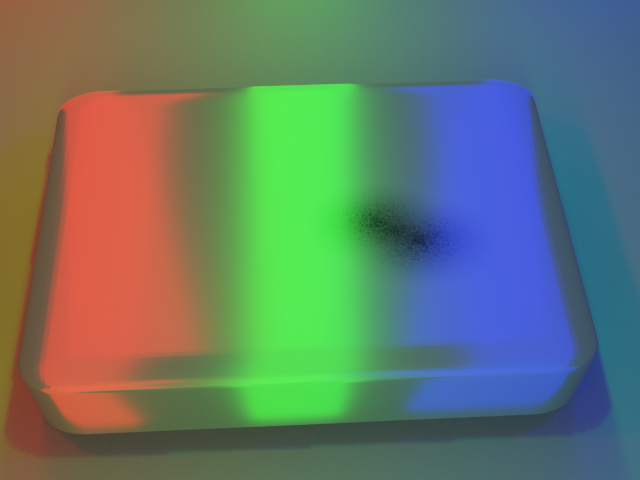stain: (279, 164, 522, 303)
